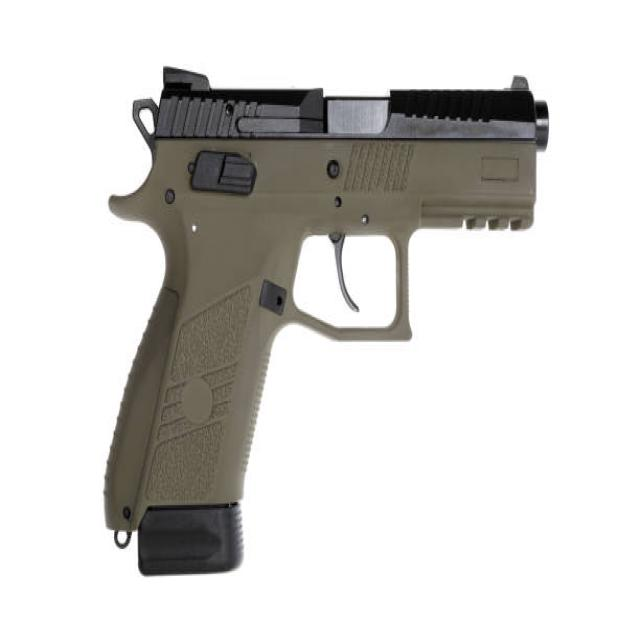pistol: (99, 55, 551, 588)
